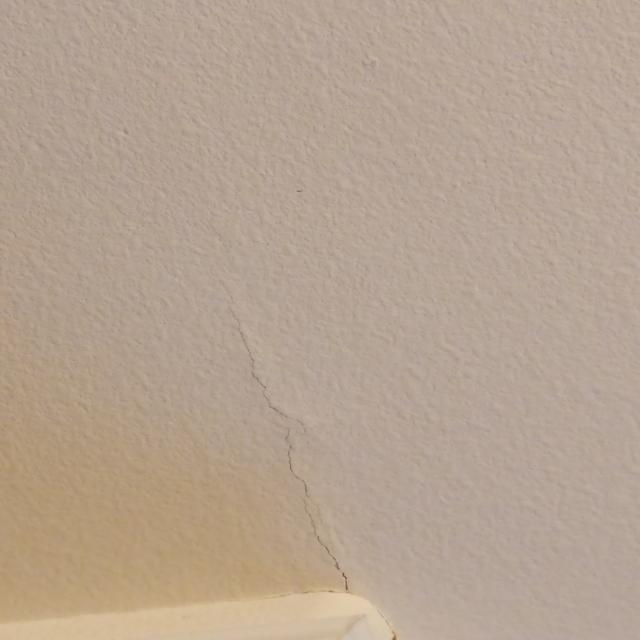leak: (220, 266, 358, 591)
